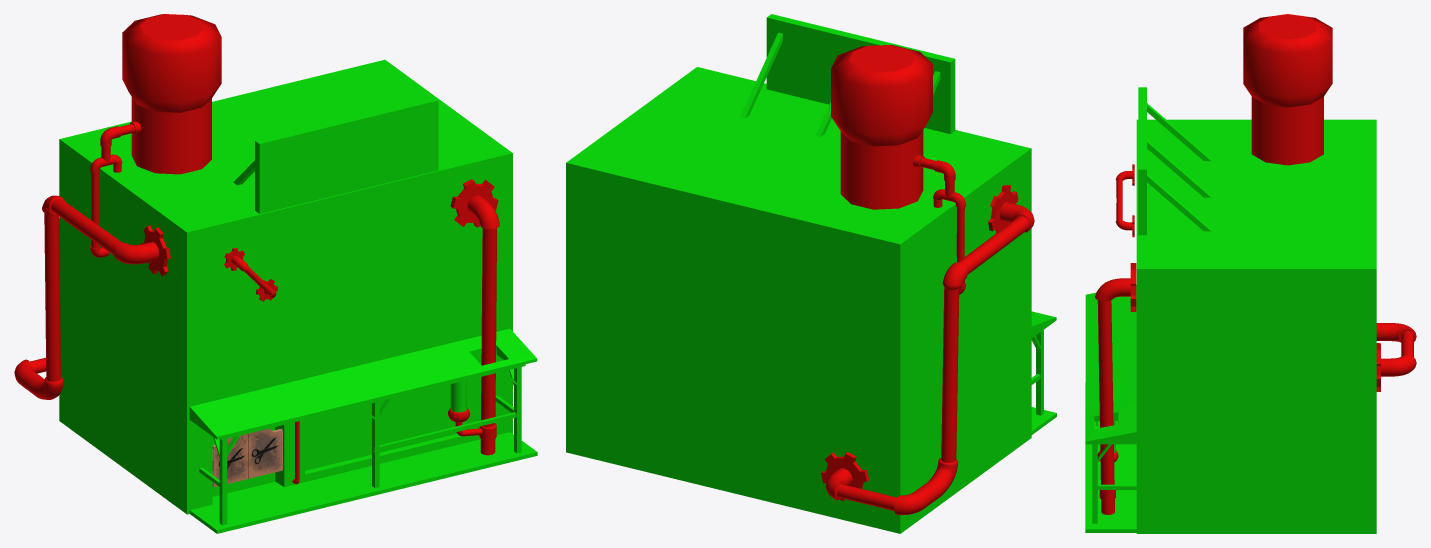
The model's file is barbershopAnimation.fbx.
3 views of the same model, side by side, from view 1: azimuth 30°, elevation 25°; view 2: azimuth 150°, elevation 25°; view 3: azimuth 270°, elevation 25° (orthographic). The views are drawn at different scales.
Parts seen in each view (by area): view 1: pCube1, pCube12, pCylinder1, pCube6, pCube2, pPipe5, pPipe2, polySurface5, polySurface2, pCylinder3, pPipe11, pCube28 (+5 smaller); view 2: pCube1, pCylinder1, pPipe5, pCube12, pCylinder3, pCube40, pCylinder2, pCube33; view 3: pCube1, pCylinder1, pCube6, pPipe2, pCube2, pPipe5, pCube12, pPipe11, pCube40, pCube19, pCube41, pCube4.
Part boxes in pixels (x1=…): pCube1: x1=59, y1=59, x2=512, y2=514; pCube12: x1=255, y1=97, x2=438, y2=213; pCylinder1: x1=122, y1=14, x2=221, y2=174; pCube6: x1=189, y1=328, x2=537, y2=439; pCube2: x1=189, y1=432, x2=537, y2=533; pPipe5: x1=14, y1=195, x2=170, y2=399; pPipe2: x1=450, y1=179, x2=499, y2=455; polySurface5: x1=248, y1=428, x2=282, y2=478; polySurface2: x1=212, y1=434, x2=247, y2=487; pCylinder3: x1=90, y1=154, x2=122, y2=257; pPipe11: x1=224, y1=248, x2=277, y2=301; pCube28: x1=373, y1=412, x2=516, y2=451; pCube1: x1=566, y1=67, x2=1031, y2=533; pCylinder1: x1=831, y1=45, x2=932, y2=209; pPipe5: x1=821, y1=185, x2=1034, y2=515; pCube12: x1=766, y1=14, x2=955, y2=133; pCylinder3: x1=933, y1=189, x2=965, y2=294; pCube40: x1=740, y1=32, x2=782, y2=118; pCylinder2: x1=913, y1=155, x2=955, y2=197; pCube33: x1=1036, y1=330, x2=1043, y2=415; pCube1: x1=1136, y1=119, x2=1376, y2=533; pCylinder1: x1=1243, y1=14, x2=1332, y2=165; pCube6: x1=1085, y1=285, x2=1136, y2=444; pPipe2: x1=1095, y1=263, x2=1136, y2=514; pCube2: x1=1085, y1=382, x2=1136, y2=532; pPipe5: x1=1376, y1=323, x2=1416, y2=391; pCube12: x1=1138, y1=87, x2=1146, y2=235; pPipe11: x1=1115, y1=164, x2=1134, y2=237; pCube40: x1=1147, y1=173, x2=1211, y2=231; pCube19: x1=1147, y1=140, x2=1211, y2=197; pCube41: x1=1147, y1=103, x2=1211, y2=161; pCube4: x1=1092, y1=444, x2=1097, y2=523.
Size of the model in its own units: 127 by 138 by 107.
Materials: 3 (1 with a texture image).
